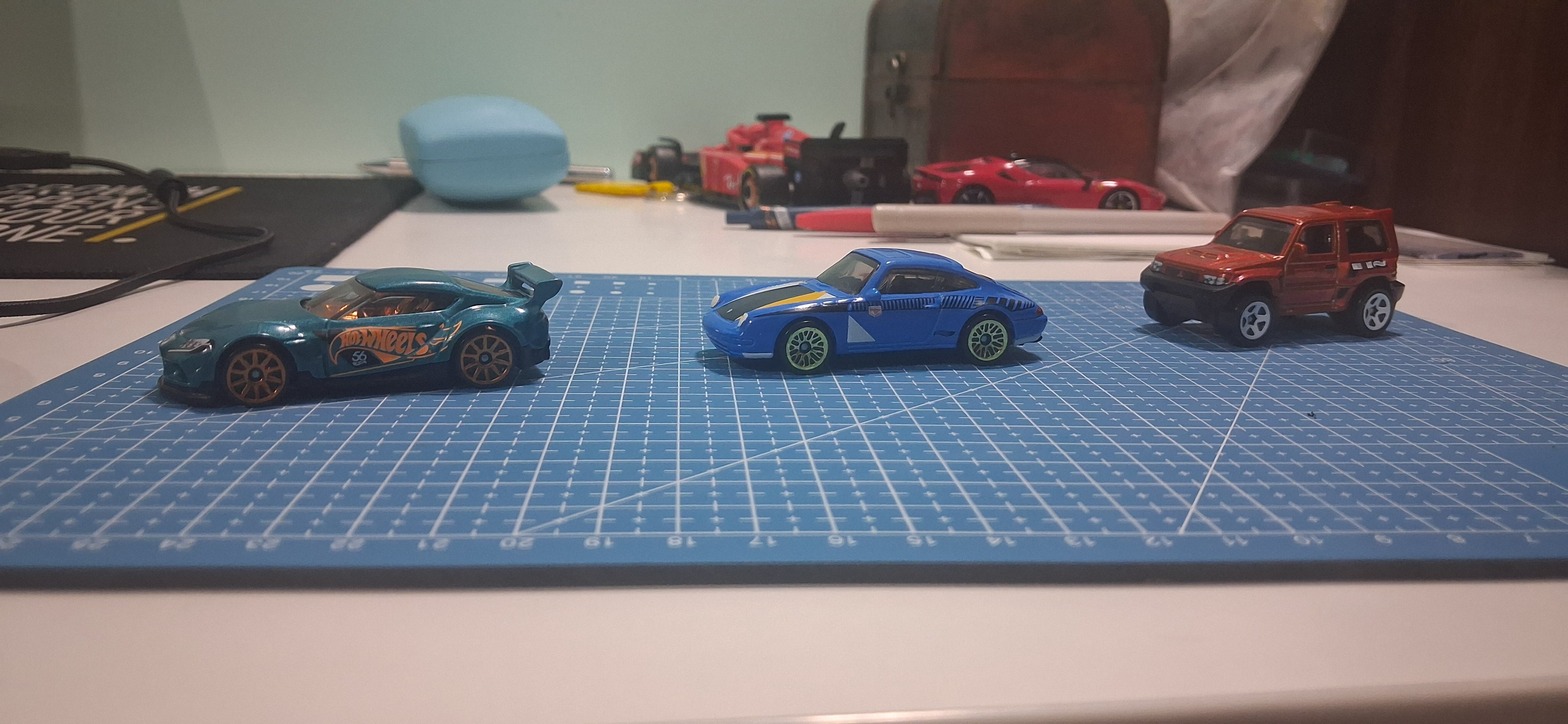Mitsubishi_Pajero_Evolution: (1113, 165, 1415, 383)
Porsche_Carrera: (647, 220, 1062, 411)
Toyota_GR_Supra: (140, 238, 565, 417)
